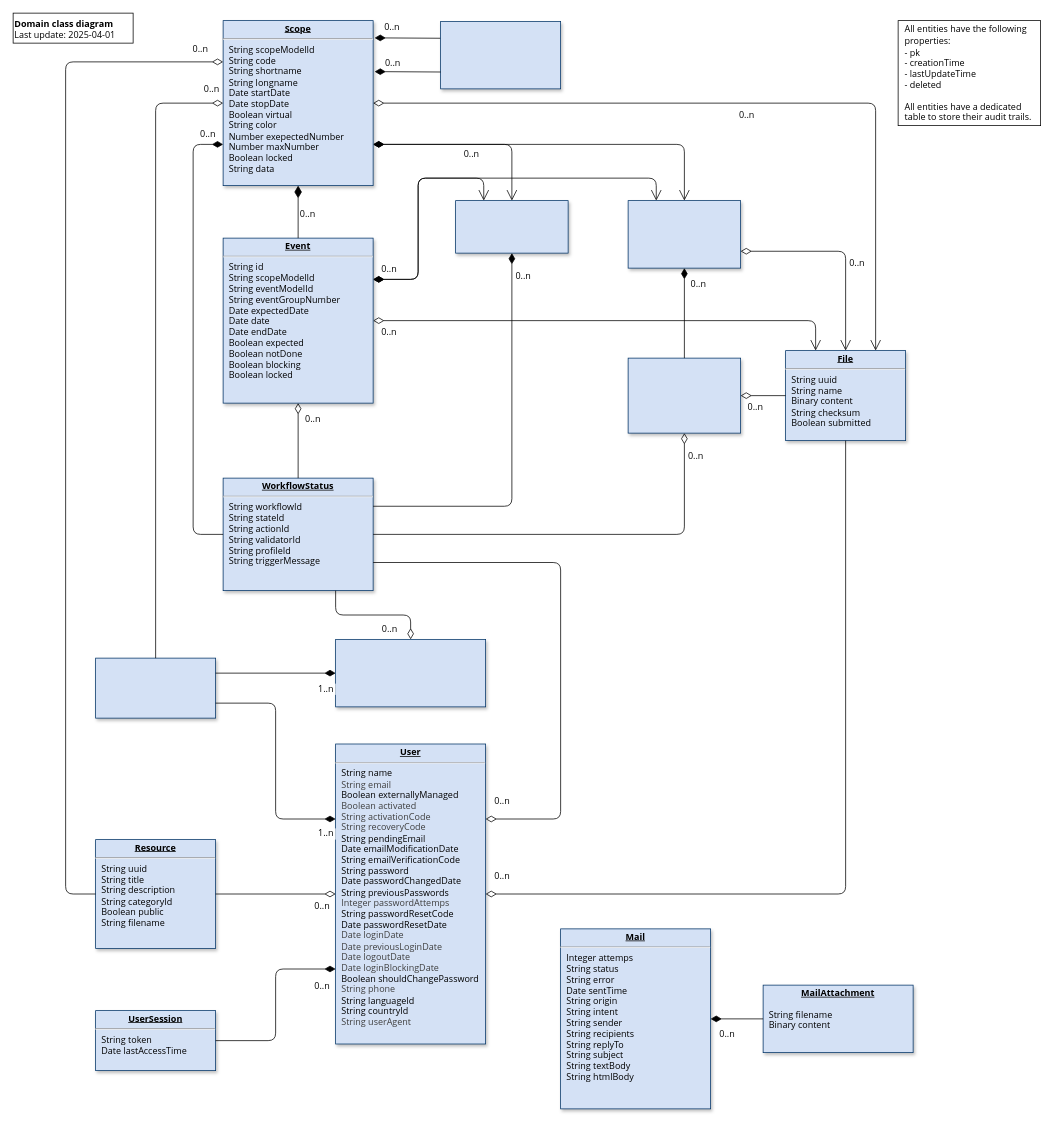
This 1054x1127 diagram has some shape labels left out. Each missing label, with the centre of its shape:
Dataset String id String datasetModelId: (684,235)
Field String datasetModelId String fieldModelId String value: (684,396)
Form String formModelId: (512,227)
Robot String name String key Boolean activated: (411,674)
Role String profileId String status: (156,688)
ScopeRelation Date startDate Date stopDate Boolean default: (501,56)
